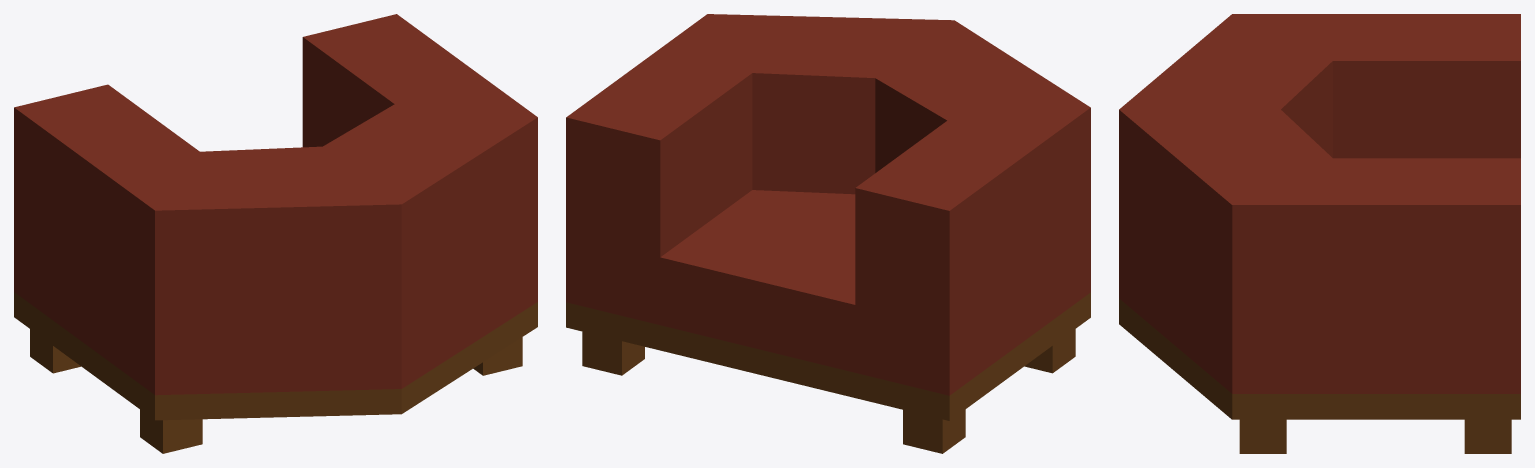
The model's file is Armchair.fbx.
3 views of the same model, side by side, from view 1: azimuth 30°, elevation 25°; view 2: azimuth 150°, elevation 25°; view 3: azimuth 270°, elevation 25° (orthographic). The views are drawn at different scales.
Parts seen in each view (by area): view 1: polySurface102; view 2: polySurface102; view 3: polySurface102.
Part boxes in pixels (bbox=[...]): polySurface102: bbox=[14, 14, 537, 453]; polySurface102: bbox=[566, 14, 1090, 453]; polySurface102: bbox=[1119, 14, 1520, 453].
Bounding box in the file's own units: 192 × 119 × 171.
